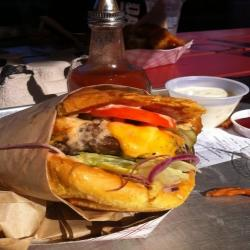burger: (41, 82, 210, 229)
